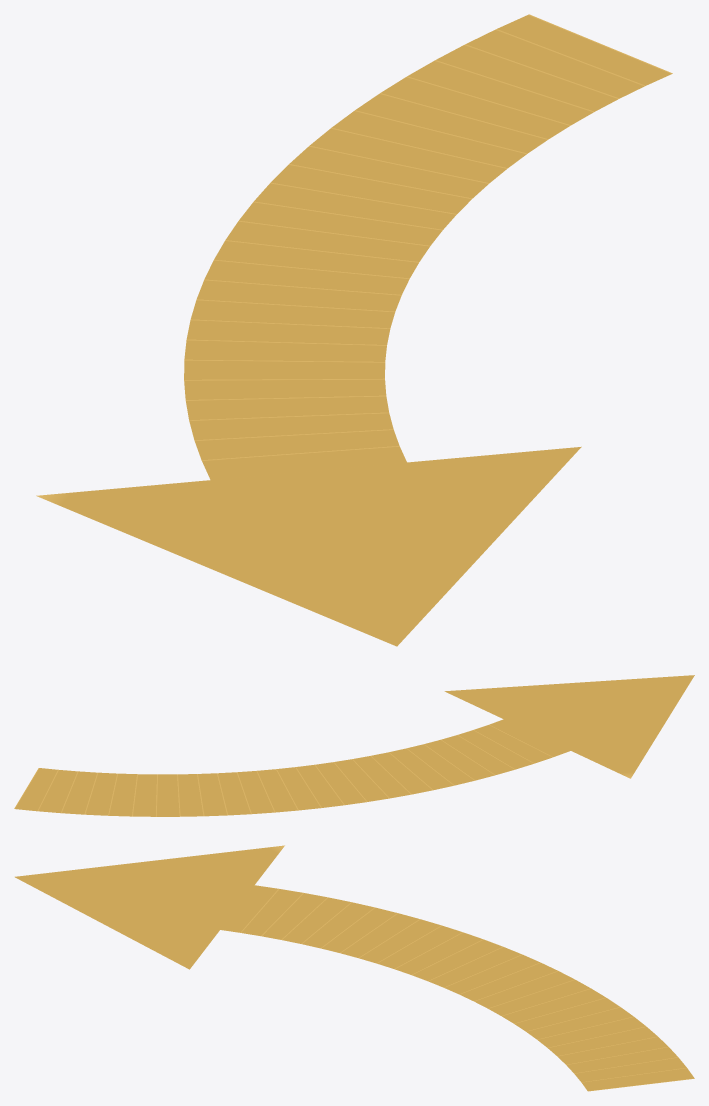
Rendered from sc_arrow_curve_right.obj.
3 renders of one model, top to bottom at view 1: azimuth 30°, elevation 25°; view 2: azimuth 150°, elevation 25°; view 3: azimuth 270°, elevation 25°, orthographic. The views are drawn at different scales.
Size of the model in its own units: 9.42 by 0 by 11.01.
1 material, 1 textured.
